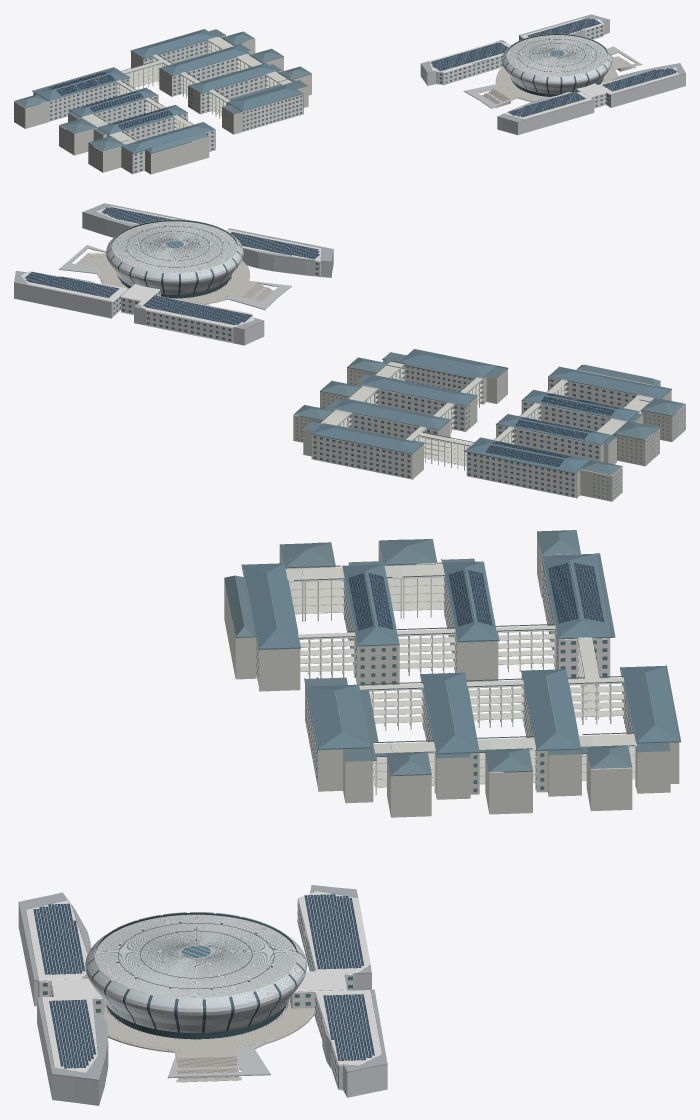
Rendered from seu_teaching_gym_detail_v01.glb.
3 views of the same model, one above another, from view 1: azimuth 30°, elevation 25°; view 2: azimuth 150°, elevation 25°; view 3: azimuth 270°, elevation 25° (orthographic). The views are drawn at different scales.
Parts seen in each view (by area): view 1: SEU_B_OSMWAY_630686644__0051, SEU_B_OSMWAY_630686644__0052, SEU_B_OSMWAY_299961605__0013, SEU_B_OSMWAY_630686644__0087, SEU_B_OSMWAY_299961615__0002, SEU_B_OSMWAY_299961592__0002, SEU_B_OSMWAY_630686644__0085, SEU_B_OSMWAY_299961595__0016, SEU_B_OSMWAY_299961605__0019, SEU_B_OSMWAY_299961617__0016, SEU_B_OSMWAY_630686644__0093, SEU_B_OSMWAY_299961615__0016 (+44 smaller); view 2: SEU_B_OSMWAY_630686644__0051, SEU_B_OSMWAY_630686644__0052, SEU_B_OSMWAY_299961592__0002, SEU_B_OSMWAY_299961586__0002, SEU_B_OSMWAY_630686644__0074, SEU_B_OSMWAY_299961595__0016, SEU_B_OSMWAY_299961605__0019, SEU_B_OSMWAY_630686644__0093, SEU_B_OSMWAY_299961617__0016, SEU_B_OSMWAY_299961591__0002, SEU_B_OSMWAY_630686644__0055, SEU_B_OSMWAY_299961586__0007 (+40 smaller); view 3: SEU_B_OSMWAY_630686644__0051, SEU_B_OSMWAY_630686644__0052, SEU_B_OSMWAY_630686644__0055, SEU_B_OSMWAY_299961595__0016, SEU_B_OSMWAY_299961605__0019, SEU_B_OSMWAY_630686644__0093, SEU_B_OSMWAY_299961617__0016, SEU_B_OSMWAY_299961615__0016, SEU_B_OSMWAY_299961586__0007, SEU_B_OSMWAY_299961615__0012, SEU_B_OSMWAY_299961592__0013, SEU_B_OSMWAY_630686644__0095 (+48 smaller).
Boxes of the visible parts, bbox=[...] form: SEU_B_OSMWAY_630686644__0051: bbox=[506, 35, 607, 77]; SEU_B_OSMWAY_630686644__0052: bbox=[507, 35, 607, 75]; SEU_B_OSMWAY_299961605__0013: bbox=[145, 136, 209, 174]; SEU_B_OSMWAY_630686644__0087: bbox=[497, 100, 594, 135]; SEU_B_OSMWAY_299961615__0002: bbox=[242, 94, 302, 131]; SEU_B_OSMWAY_299961592__0002: bbox=[49, 78, 129, 121]; SEU_B_OSMWAY_630686644__0085: bbox=[609, 73, 685, 107]; SEU_B_OSMWAY_299961595__0016: bbox=[160, 45, 249, 75]; SEU_B_OSMWAY_299961605__0019: bbox=[122, 122, 214, 152]; SEU_B_OSMWAY_299961617__0016: bbox=[189, 63, 277, 92]; SEU_B_OSMWAY_630686644__0093: bbox=[430, 42, 508, 71]; SEU_B_OSMWAY_299961615__0016: bbox=[227, 84, 302, 110]; SEU_B_OSMWAY_630686644__0051: bbox=[112, 221, 237, 273]; SEU_B_OSMWAY_630686644__0052: bbox=[112, 221, 236, 273]; SEU_B_OSMWAY_299961592__0002: bbox=[466, 452, 575, 497]; SEU_B_OSMWAY_299961586__0002: bbox=[312, 434, 411, 479]; SEU_B_OSMWAY_630686644__0074: bbox=[14, 283, 112, 318]; SEU_B_OSMWAY_299961595__0016: bbox=[333, 398, 449, 429]; SEU_B_OSMWAY_299961605__0019: bbox=[548, 367, 670, 398]; SEU_B_OSMWAY_630686644__0093: bbox=[143, 295, 252, 325]; SEU_B_OSMWAY_299961617__0016: bbox=[360, 374, 476, 405]; SEU_B_OSMWAY_299961591__0002: bbox=[497, 424, 600, 461]; SEU_B_OSMWAY_630686644__0055: bbox=[99, 260, 249, 304]; SEU_B_OSMWAY_299961586__0007: bbox=[312, 423, 423, 453]; SEU_B_OSMWAY_630686644__0051: bbox=[95, 914, 297, 999]; SEU_B_OSMWAY_630686644__0052: bbox=[95, 915, 296, 998]; SEU_B_OSMWAY_630686644__0055: bbox=[101, 999, 315, 1052]; SEU_B_OSMWAY_299961595__0016: bbox=[522, 669, 580, 749]; SEU_B_OSMWAY_299961605__0019: bbox=[244, 563, 300, 648]; SEU_B_OSMWAY_630686644__0093: bbox=[304, 894, 363, 969]; SEU_B_OSMWAY_299961617__0016: bbox=[421, 672, 479, 753]; SEU_B_OSMWAY_299961615__0016: bbox=[306, 684, 370, 748]; SEU_B_OSMWAY_299961586__0007: bbox=[622, 666, 679, 742]; SEU_B_OSMWAY_299961615__0012: bbox=[305, 677, 373, 803]; SEU_B_OSMWAY_299961592__0013: bbox=[542, 553, 610, 638]; SEU_B_OSMWAY_630686644__0095: bbox=[33, 903, 84, 974].
Size of the model in its own units: 540 by 27.28 by 283.
